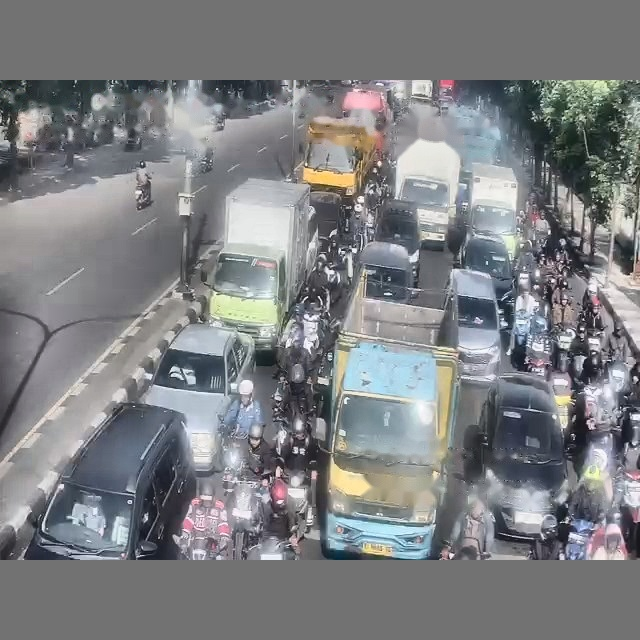Mobil: (24, 403, 196, 559), (143, 323, 255, 474), (465, 373, 567, 538), (456, 235, 512, 321), (375, 200, 420, 287)
Motor: (228, 479, 261, 559), (525, 332, 551, 377), (565, 519, 594, 559), (513, 310, 531, 367), (554, 326, 575, 372), (134, 182, 150, 210)
Truk: (314, 273, 459, 558), (206, 178, 317, 354), (395, 139, 460, 248), (302, 117, 378, 197), (469, 163, 518, 258), (411, 80, 432, 101)
